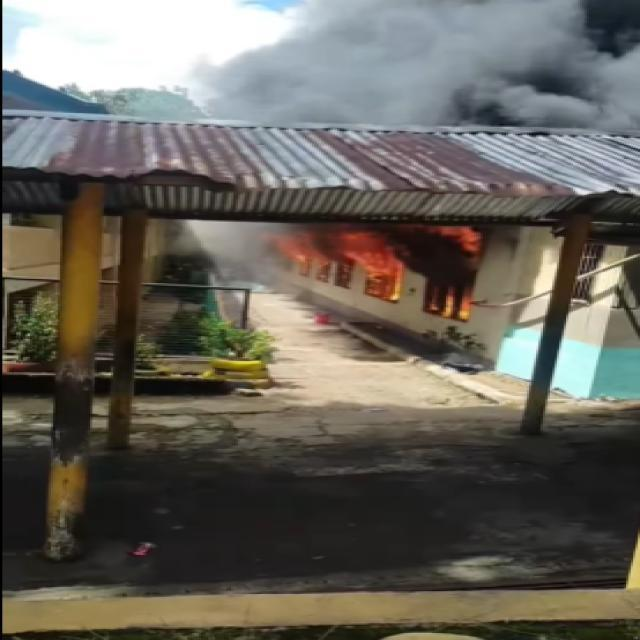Fire: (250, 220, 494, 320)
Smoke: (198, 0, 640, 132)
